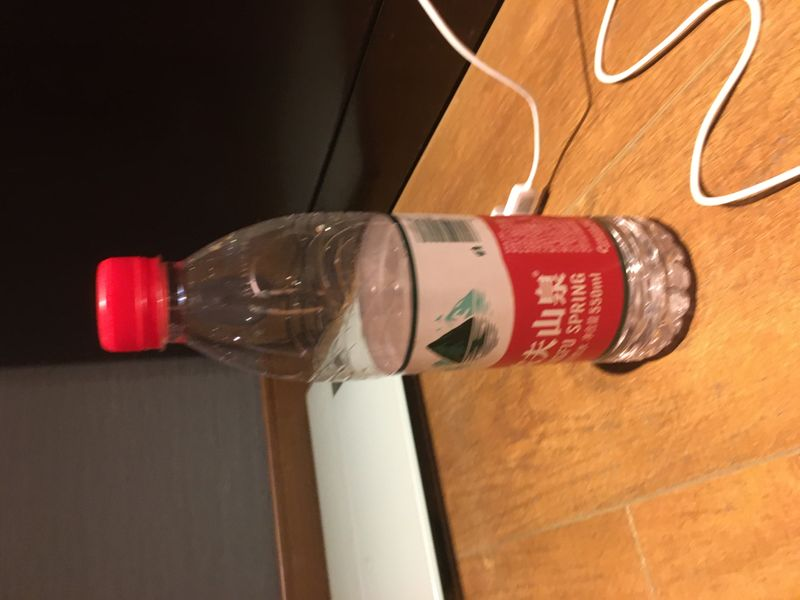5eca67a90202601e8cb8d104: (84, 213, 690, 379)
